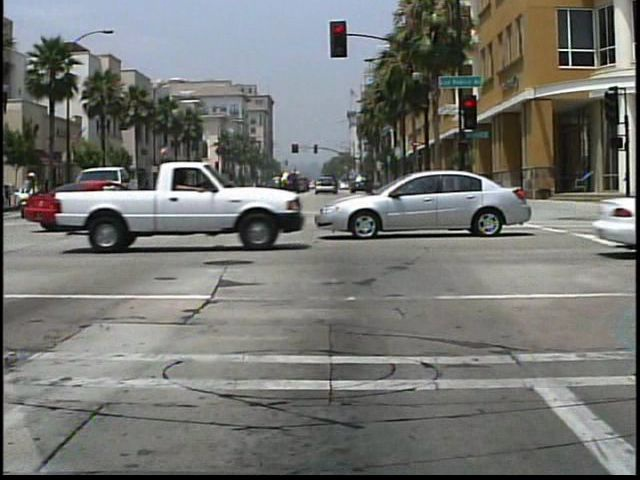person: (17, 168, 47, 220)
